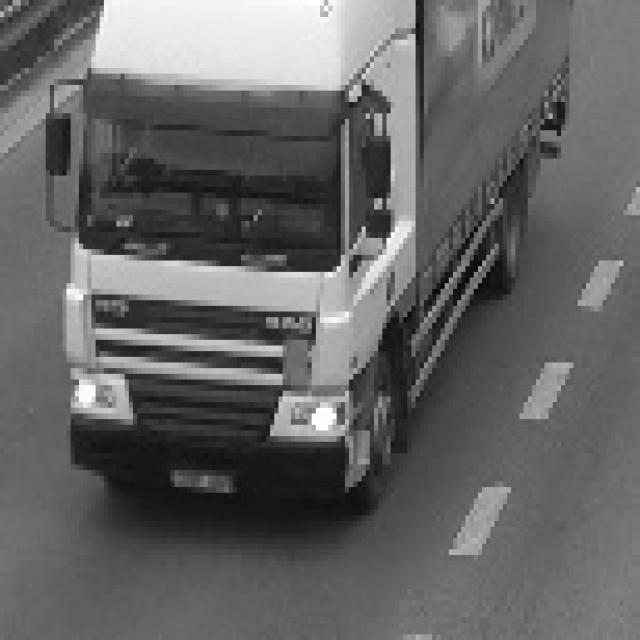truck: (46, 0, 570, 510)
